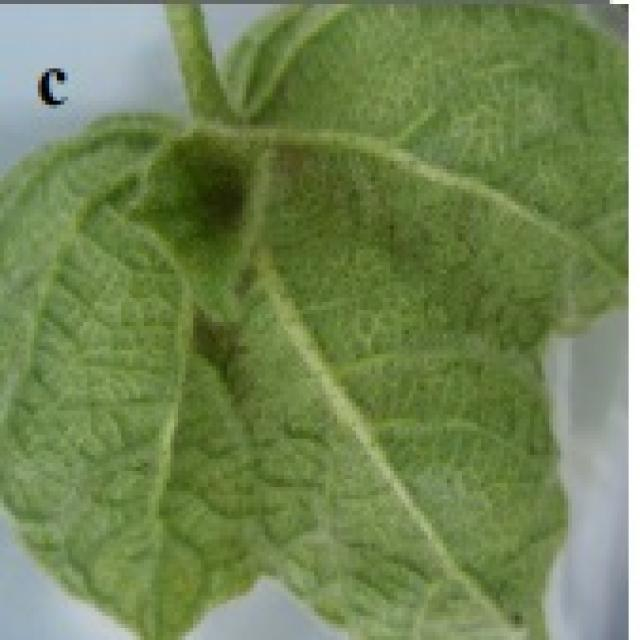Leaf Curl Virus: (128, 164, 405, 426)
